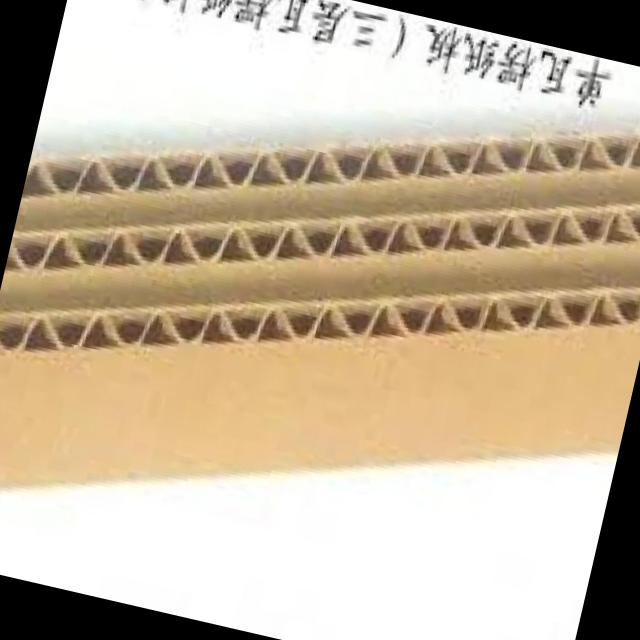cardboard paper: (0, 139, 640, 489)
